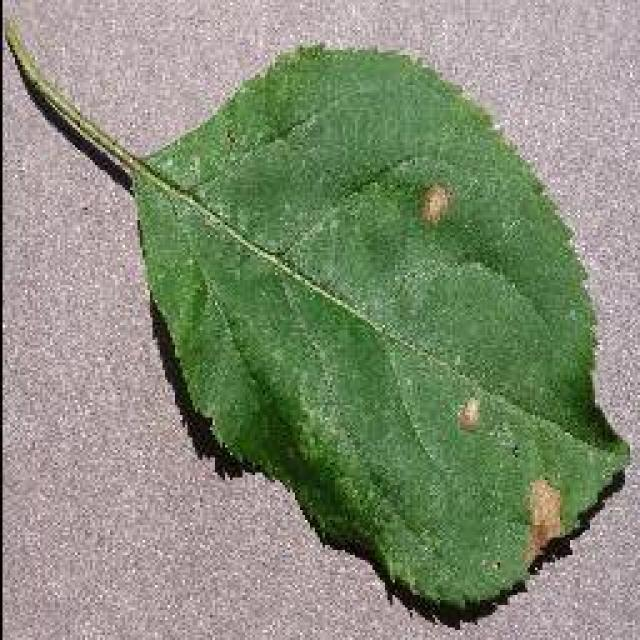Apple___Black_rot: (127, 44, 630, 614)
